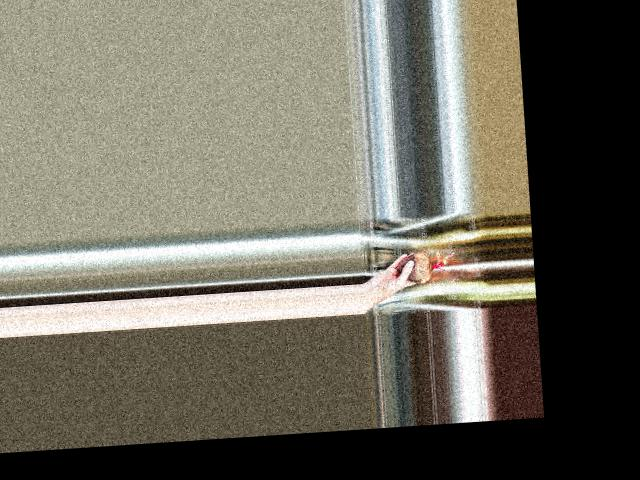beet: (395, 249, 455, 284)
